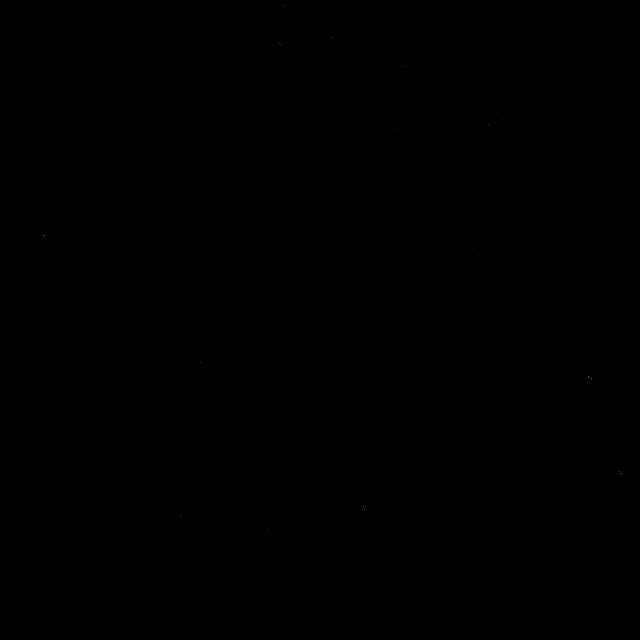Dog: (228, 230, 551, 552)
